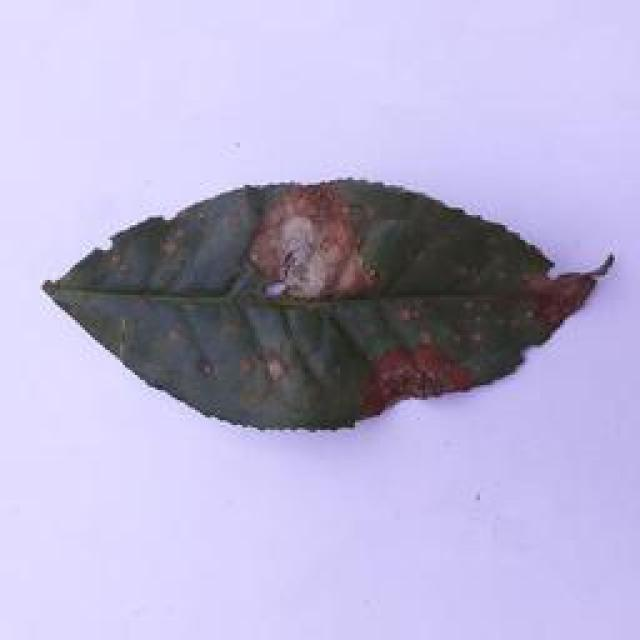Gray Blight: (34, 176, 616, 436)
